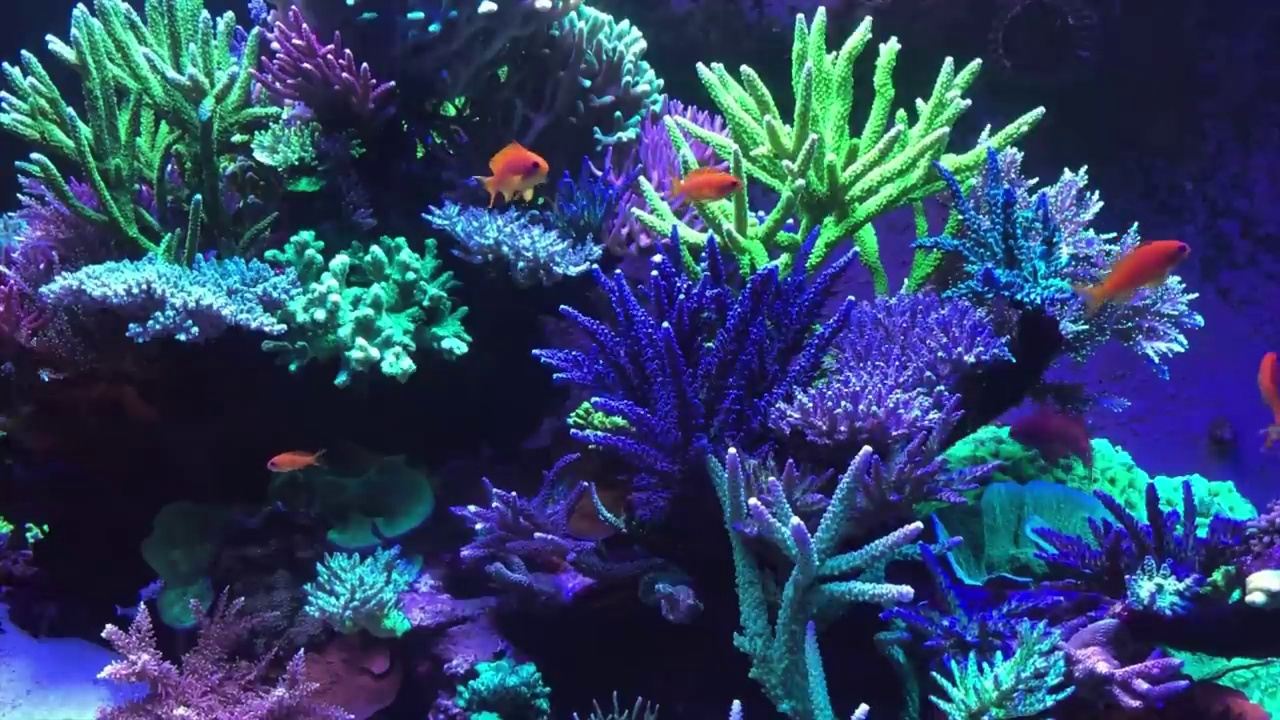fish: (1079, 240, 1194, 322), (1008, 404, 1098, 471), (469, 141, 547, 210), (1255, 349, 1280, 452), (674, 165, 743, 202), (263, 446, 329, 474)
